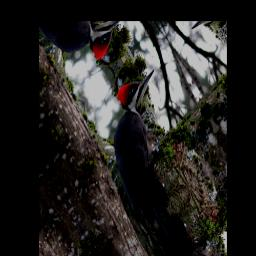Woodpecker: (83, 55, 207, 235)
